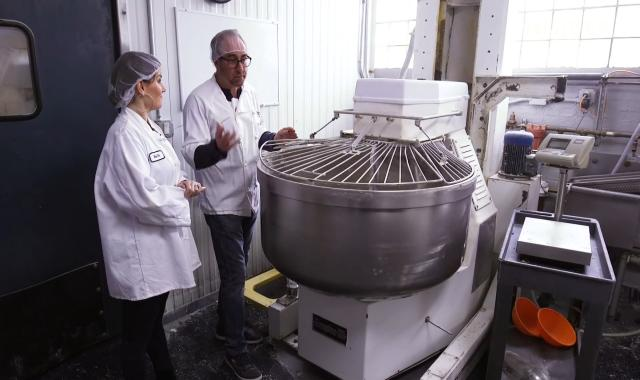hairnet: (104, 51, 164, 107), (204, 24, 252, 61)
